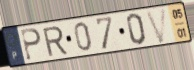0: (126, 12, 148, 47), (72, 20, 95, 53)
7: (95, 15, 115, 53)
P: (19, 27, 43, 62)
R: (41, 25, 70, 59)
V: (144, 6, 168, 45)
